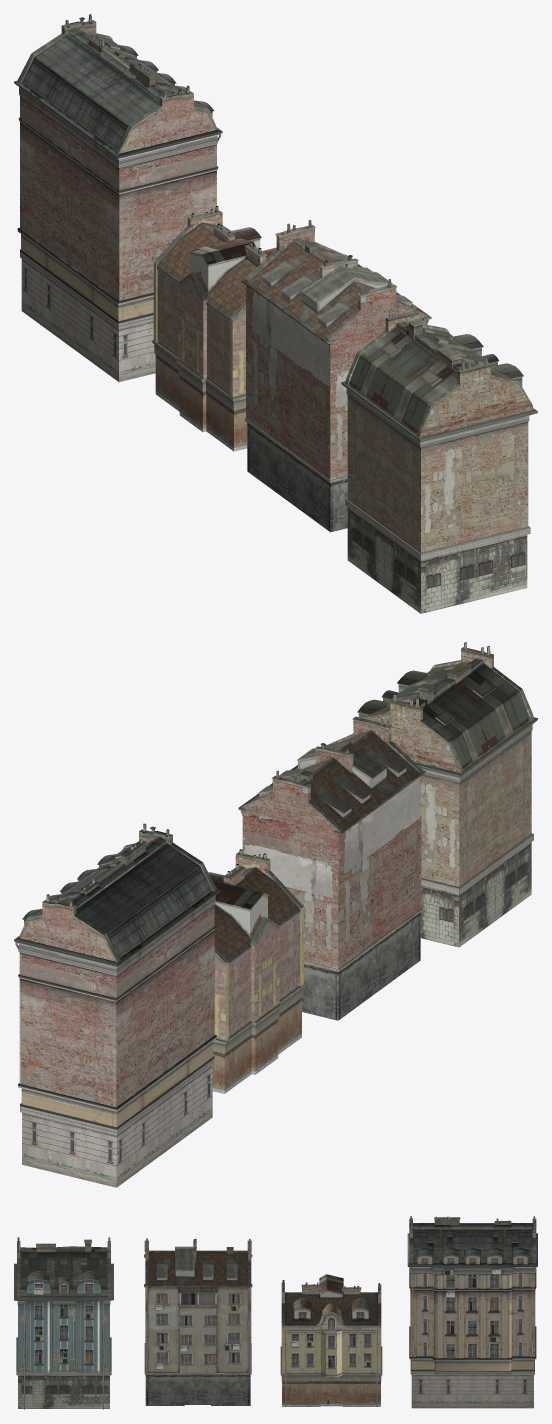
File: build.obj
3 renders of one model, top to bottom at view 1: azimuth 30°, elevation 25°; view 2: azimuth 150°, elevation 25°; view 3: azimuth 270°, elevation 25°, orthographic. The views are drawn at different scales.
Visible parts, largest first — view 1: build4, build1, build2, build3; view 2: build4, build2, build1, build3; view 3: build4, build2, build1, build3.
Boxes of the visible parts, bbox=[...] form: build4: bbox=[14, 14, 222, 381]; build1: bbox=[341, 305, 537, 613]; build2: bbox=[241, 220, 431, 532]; build3: bbox=[152, 206, 276, 451]; build4: bbox=[14, 823, 220, 1187]; build2: bbox=[238, 711, 426, 1020]; build1: bbox=[353, 642, 537, 947]; build3: bbox=[208, 849, 304, 1093]; build4: bbox=[407, 1216, 537, 1408]; build2: bbox=[144, 1238, 252, 1405]; build1: bbox=[14, 1237, 113, 1409]; build3: bbox=[280, 1274, 382, 1406].
Size of the model in its own units: 42.44 by 95.93 by 255.
